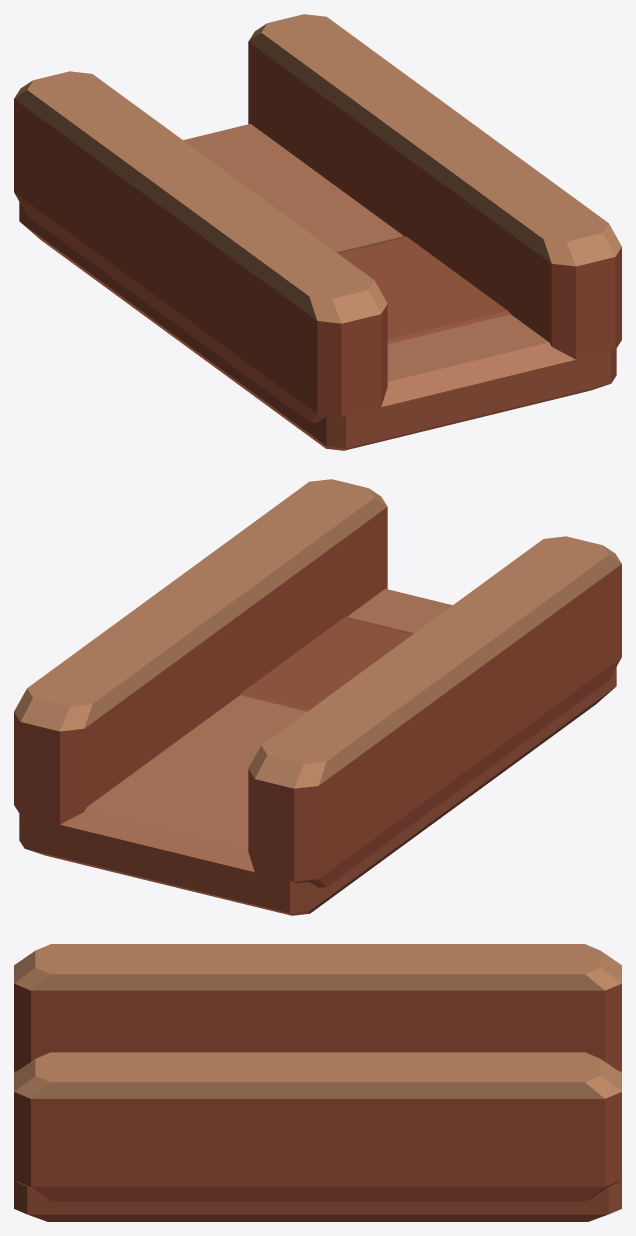
The model's file is oase_22.glb.
3 views of the same model, one above another, from view 1: azimuth 30°, elevation 25°; view 2: azimuth 150°, elevation 25°; view 3: azimuth 270°, elevation 25° (orthographic). The views are drawn at different scales.
Parts seen in each view (by area): view 1: oase_22; view 2: oase_22; view 3: oase_22.
Boxes of the visible parts, <box> form: oase_22: <box>14,14,621,450</box>; oase_22: <box>14,479,621,915</box>; oase_22: <box>14,944,621,1221</box>.
Size of the model in its own units: 1.09 by 0.5316 by 2.
